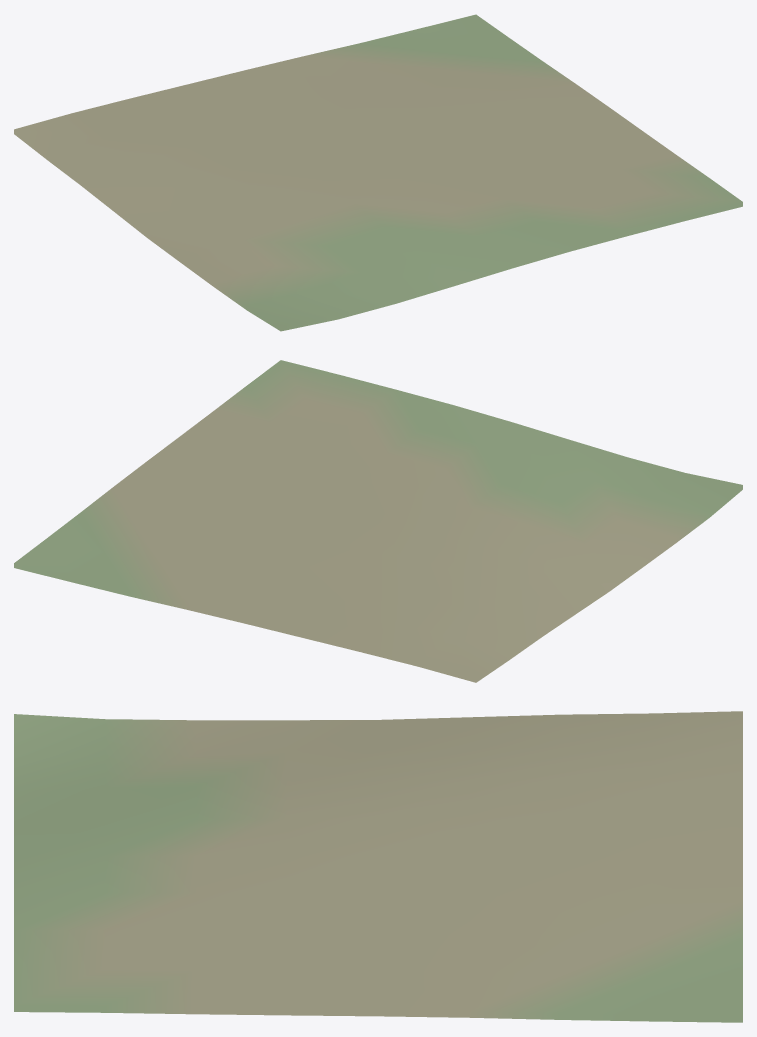
The picture shows the model from 3 angles, top to bottom: view 1: azimuth 30°, elevation 25°; view 2: azimuth 150°, elevation 25°; view 3: azimuth 270°, elevation 25°; orthographic projection. The views are drawn at different scales.
Visible parts, largest first — view 1: prim0; view 2: prim0; view 3: prim0.
Part boxes in pixels (bbox=[...]): prim0: bbox=[14, 14, 742, 331]; prim0: bbox=[14, 360, 742, 682]; prim0: bbox=[14, 711, 742, 1022].
Size of the model in its own units: 512 by 22.67 by 512.
